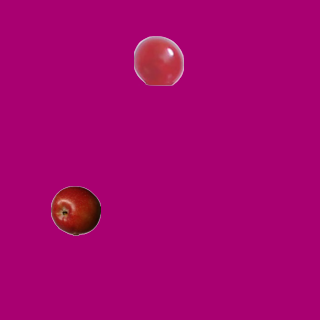Apple Braeburn: (50, 185, 100, 235)
Redcurrant: (133, 35, 183, 85)
